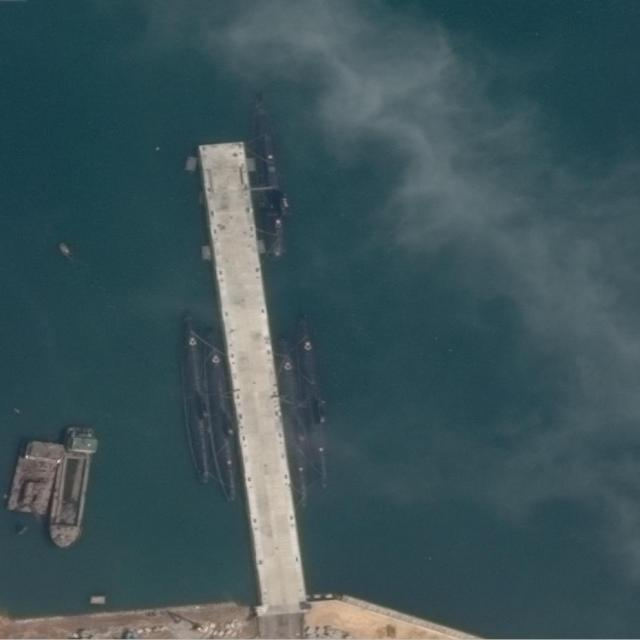Cargo: (47, 425, 100, 551)
Submarine: (286, 312, 339, 491), (242, 96, 297, 259), (269, 334, 317, 511), (198, 324, 242, 509), (171, 312, 215, 486)
